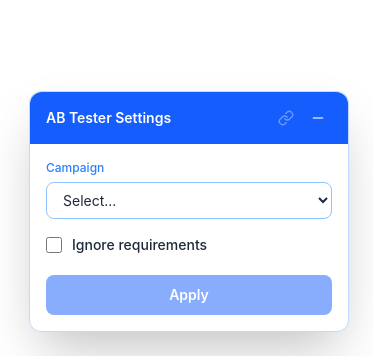
Test: FloatingWidget › shows variations and clears the selected variation when the campaign changes
Select "Campaign A" in the dropdown labelled "Campaign" at (189, 200), box [46,182,332,219]
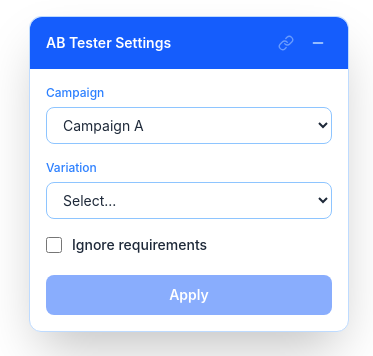
Select "Variant" in the dropdown labelled "Variation" at (189, 200), box [46,182,332,219]
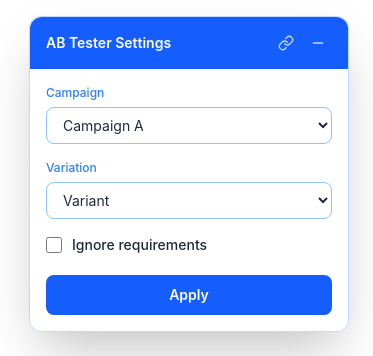
Expected: the button "Apply" is enabled, [46,275,332,315]
Select "Campaign B" in the dropdown labelled "Campaign" at (189, 126), box [46,107,332,144]
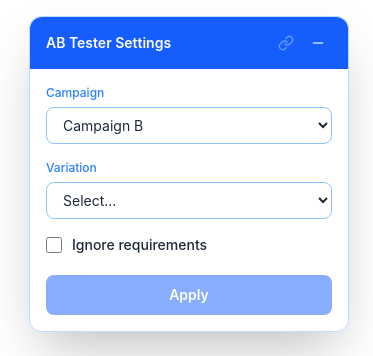
Expected: the button "Apply" is disabled, [46,275,332,315]
